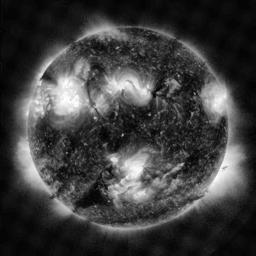solar flares: (101, 72, 153, 102), (56, 73, 85, 120), (109, 180, 145, 204), (203, 83, 224, 119), (124, 153, 148, 178), (34, 87, 44, 123), (95, 32, 125, 41), (109, 154, 120, 166)
sunspots: (78, 186, 107, 210), (103, 125, 126, 150), (85, 40, 110, 58), (131, 27, 154, 42), (182, 74, 197, 96), (123, 114, 141, 131), (140, 108, 159, 122), (184, 151, 200, 167), (156, 70, 167, 93), (42, 128, 55, 143), (89, 63, 106, 74), (70, 137, 83, 151)
